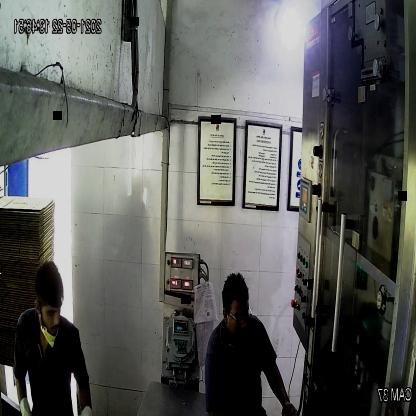goggles: (224, 306, 255, 328)
no_goggles: (33, 304, 64, 322)
